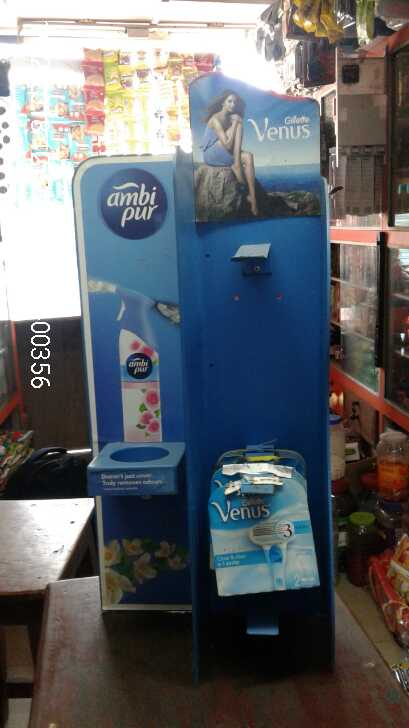venus: (206, 466, 320, 595)
